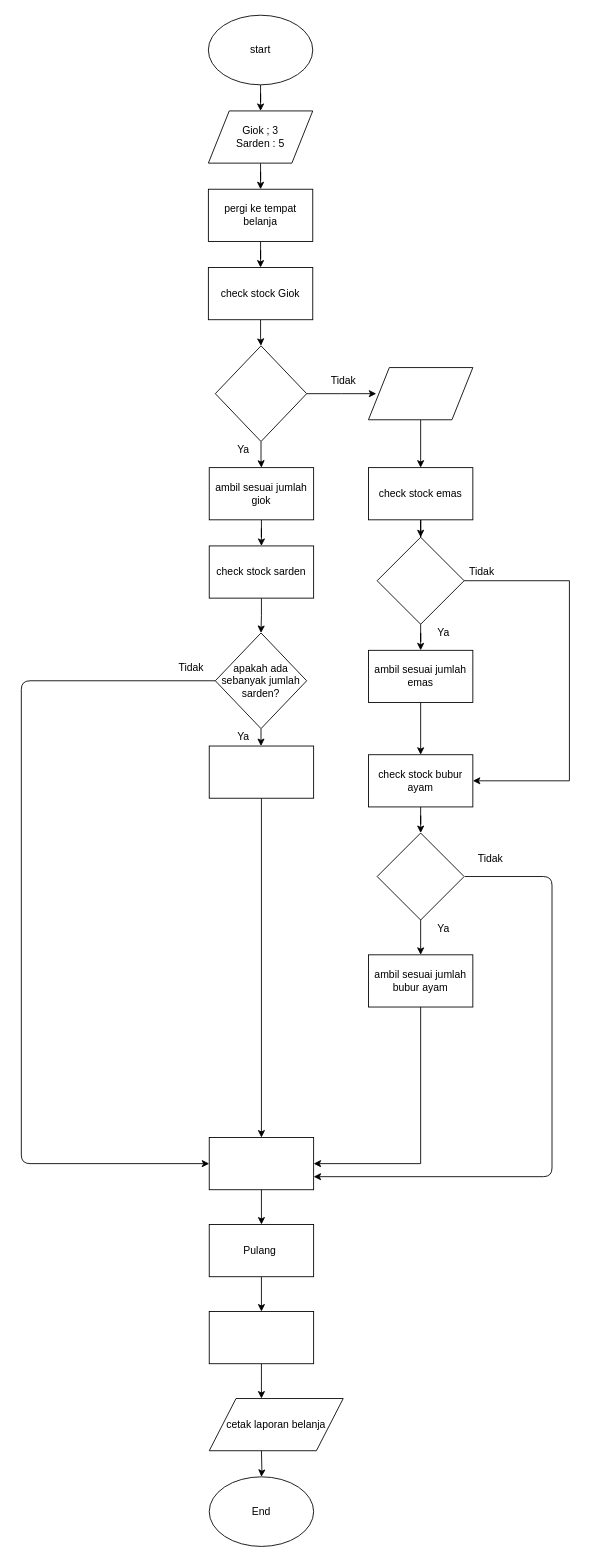
The diagram is 592 pixels wide and 1562 high, and some of its shapes have lost their labels. The centre of each missing label's shape, as x and y in pixels:
1 kg Emas Bubur Ayam : 5: [420,393]
ambil sesuai jumlah sarden: [261,771]
apakah ada sebanyak jumlah bubur ayam?: [420,876]
apakah ada sebanyak jumlah emas?: [420,580]
apakah ada sebanyak jumlah Giok?: [260,393]
bayar barang belanja: [261,1163]
Lapor struk belanja: [261,1337]
